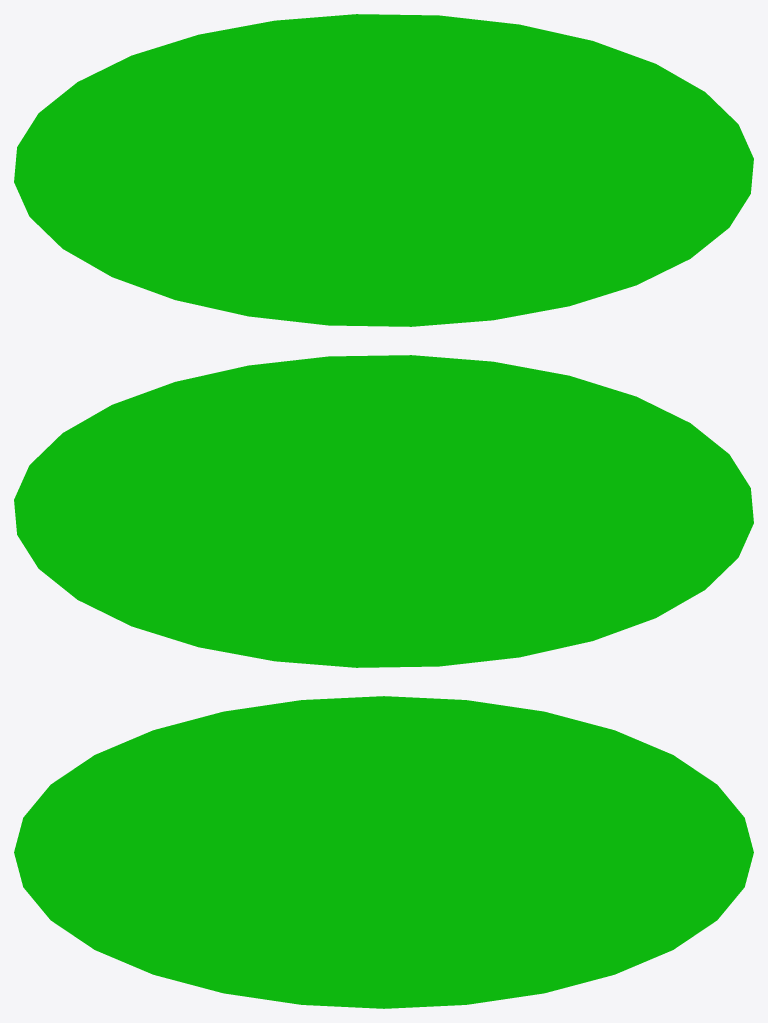
File: ST_Fonderie_Fill.fbx
The picture shows the model from 3 angles, top to bottom: view 1: azimuth 30°, elevation 25°; view 2: azimuth 150°, elevation 25°; view 3: azimuth 270°, elevation 25°; orthographic projection.
Parts seen in each view (by area): view 1: ST_Fonderie_Fill; view 2: ST_Fonderie_Fill; view 3: ST_Fonderie_Fill.
Boxes of the visible parts, x1,y1,x2,y2 form: ST_Fonderie_Fill: (14, 14, 753, 326); ST_Fonderie_Fill: (14, 355, 753, 667); ST_Fonderie_Fill: (14, 696, 753, 1008).
Bounding box in the file's own units: 336 × 0.00395 × 336.
